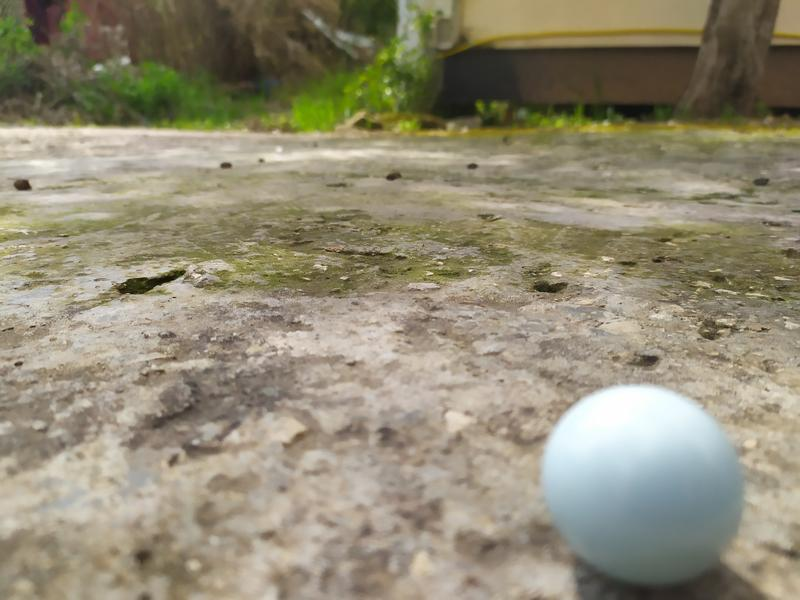Warning: (534, 376, 752, 593)
